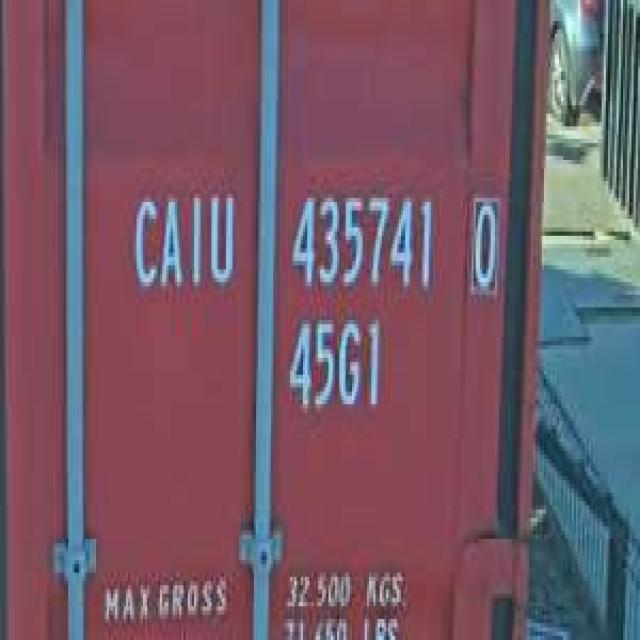dv: (463, 185, 505, 307)
owner: (126, 177, 239, 303)
serial: (286, 177, 437, 299)
size: (284, 308, 386, 426)
